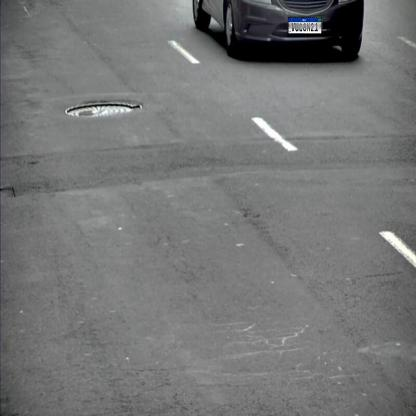PlacaM: (288, 17, 322, 34)
